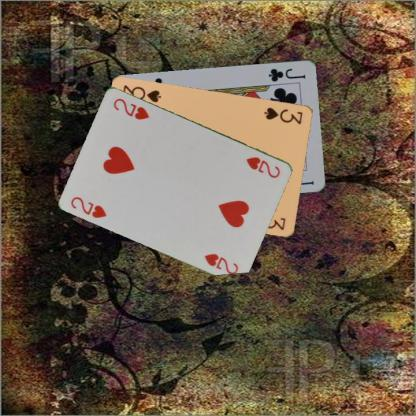2h: (68, 194, 109, 220), (244, 154, 282, 179)
3s: (262, 104, 304, 126)
Jc: (266, 65, 308, 83)
